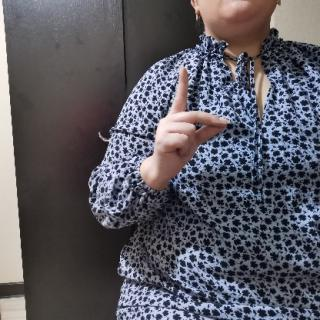TAA: (140, 60, 237, 182)
